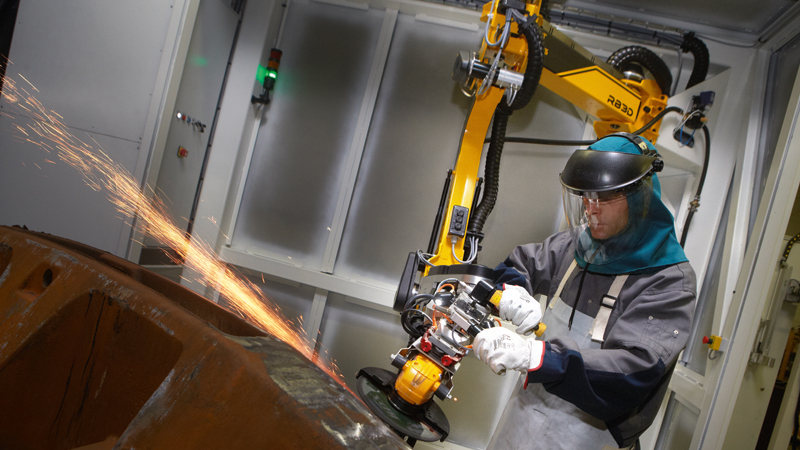person: (474, 131, 699, 450)
robot: (388, 1, 674, 410)
